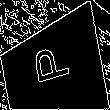P_W: (30, 45, 75, 93)
